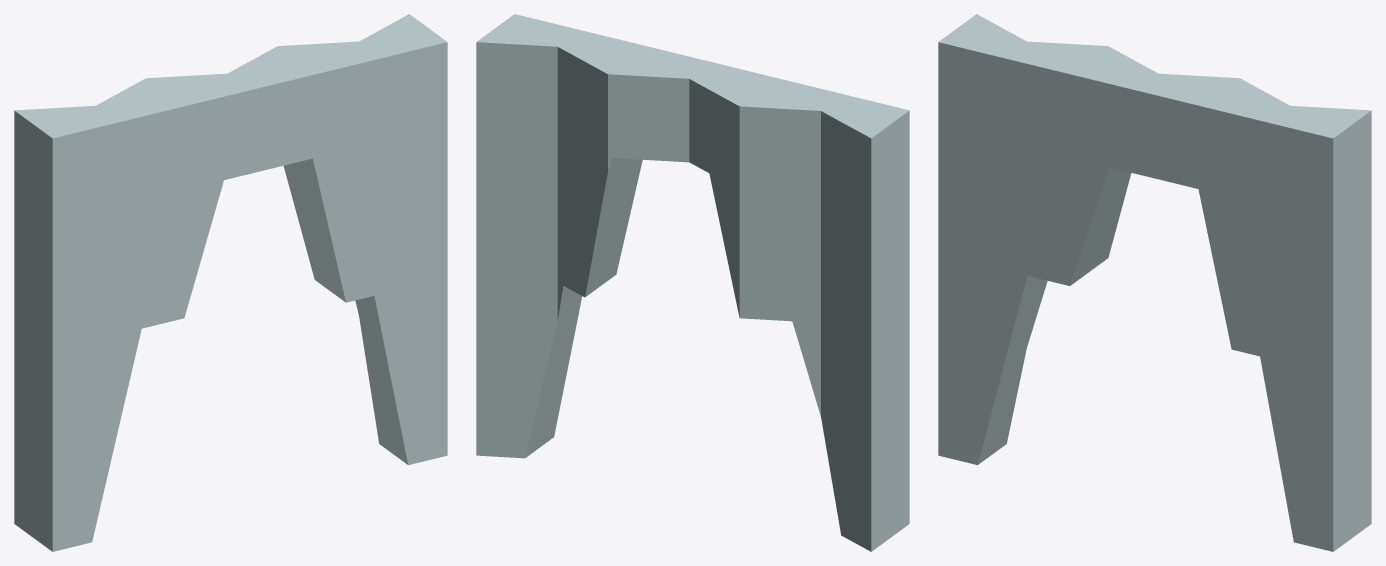
Rendered from cliff_cave_stone.glb.
3 renders of one model, left to right at view 1: azimuth 30°, elevation 25°; view 2: azimuth 150°, elevation 25°; view 3: azimuth 330°, elevation 25°, orthographic.
Visible parts, largest first — view 1: cliff_cave_stone; view 2: cliff_cave_stone; view 3: cliff_cave_stone.
Part boxes in pixels (<box>): cliff_cave_stone: <box>14,14,447,551</box>; cliff_cave_stone: <box>476,14,909,551</box>; cliff_cave_stone: <box>938,14,1371,551</box>.
Bounding box in the file's own units: 1 × 1 × 0.1685.
